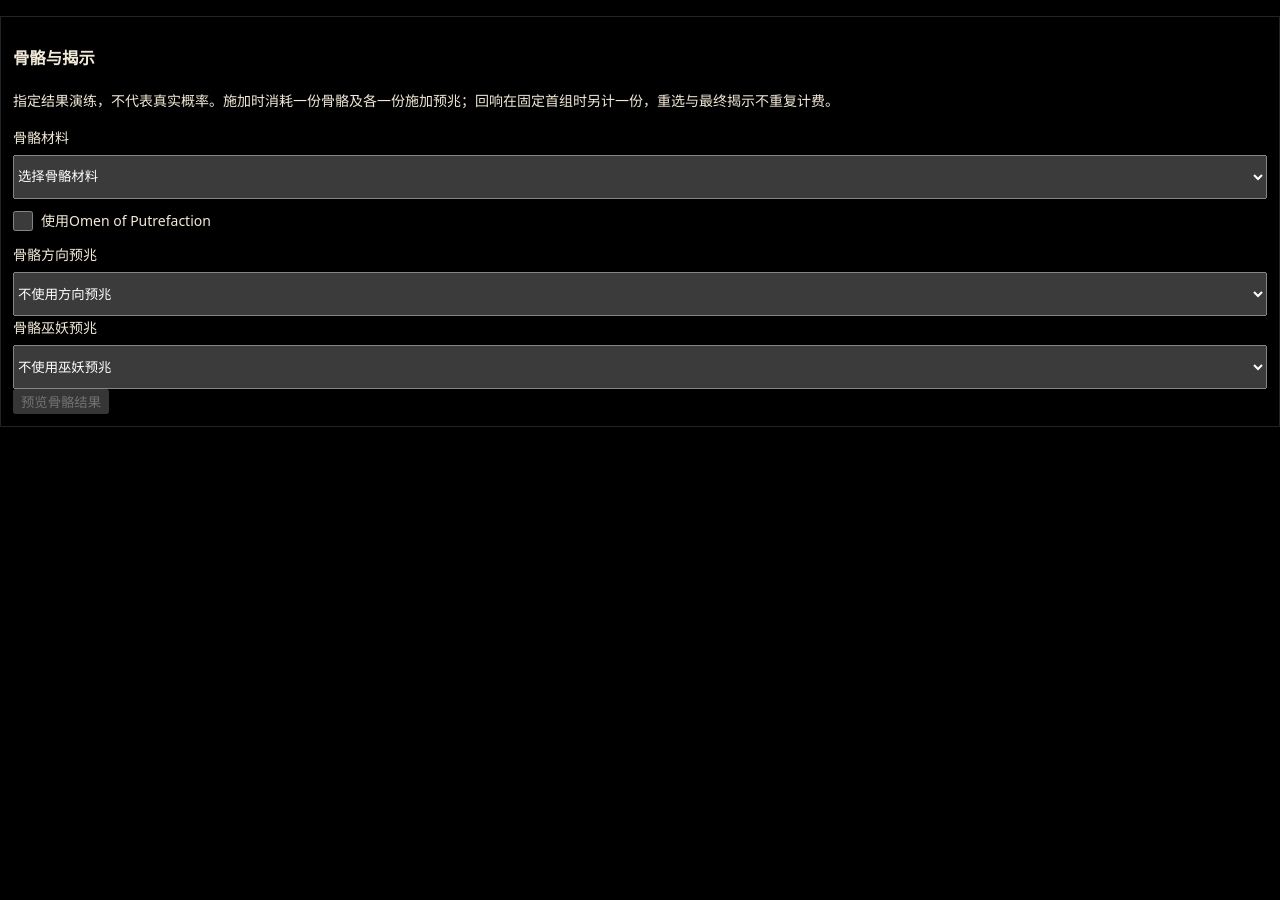
Test: 满六组的目标移除风险及占位侧联动在预览前可核对
Select "保存肋骨 · 防具与副手" in the dropdown labelled "骨骼材料" at [640, 177], box [13,155,1267,199]
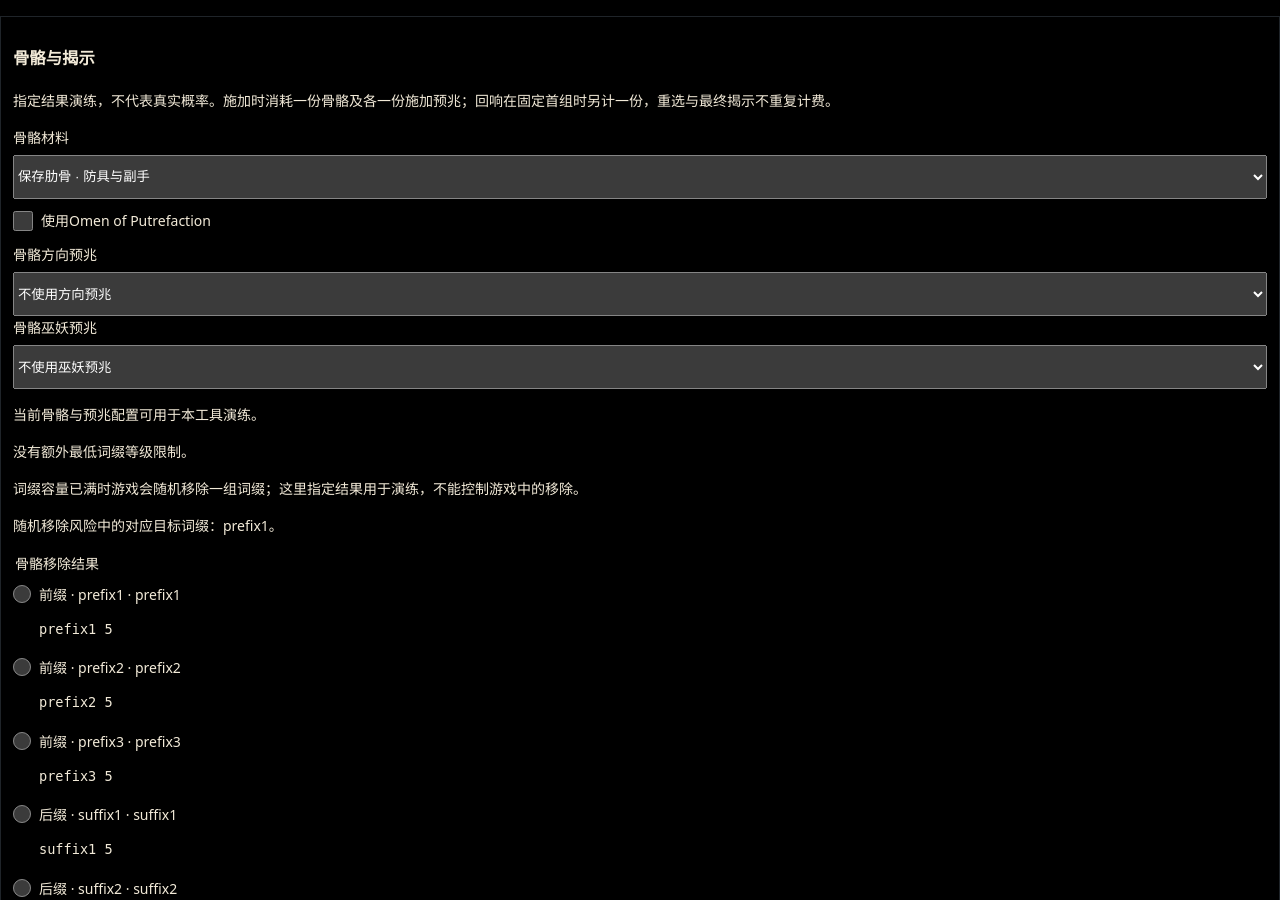
expect the text "随机移除风险中的对应目标词缀：prefix1。" is shown: met, box [13,516,283,535]
Click the radio button with aria-label "骨骼移除 prefix2" at [22, 667], box [13,658,31,676]
(page scrolled)
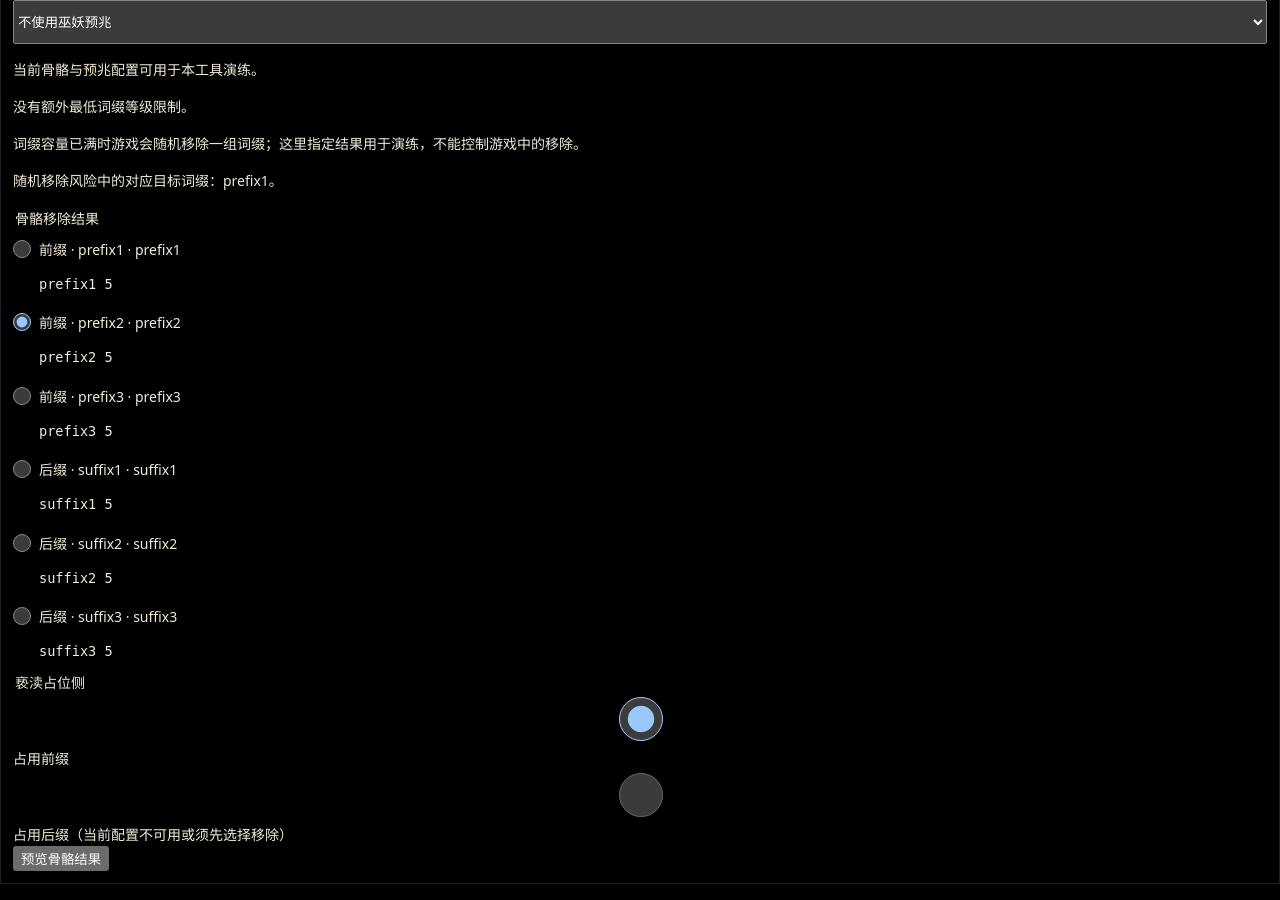
expect the radio button labelled "占用后缀" is disabled: met, box [18,773,1264,817]
expect the radio button labelled "占用前缀" is checked: met, box [18,697,1264,741]
Click the button "预览骨骼结果" at [61, 858], box [13,846,109,871]
(page scrolled)
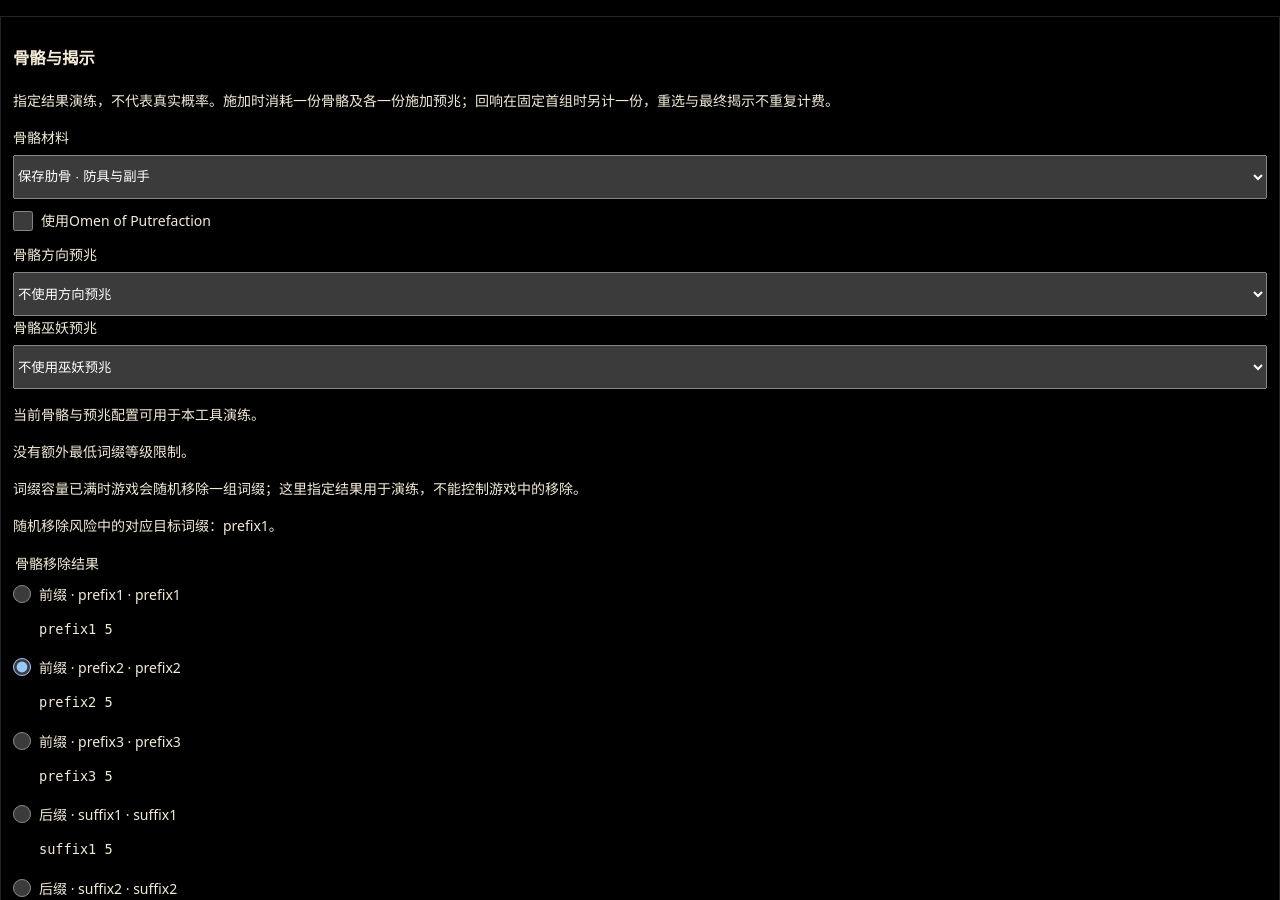
Select "Ancient Rib · 防具与副手 · 物等至少40，最低词缀等级40" in the dropdown labelled "骨骼材料" at [640, 177], box [13,155,1267,199]
(page scrolled)
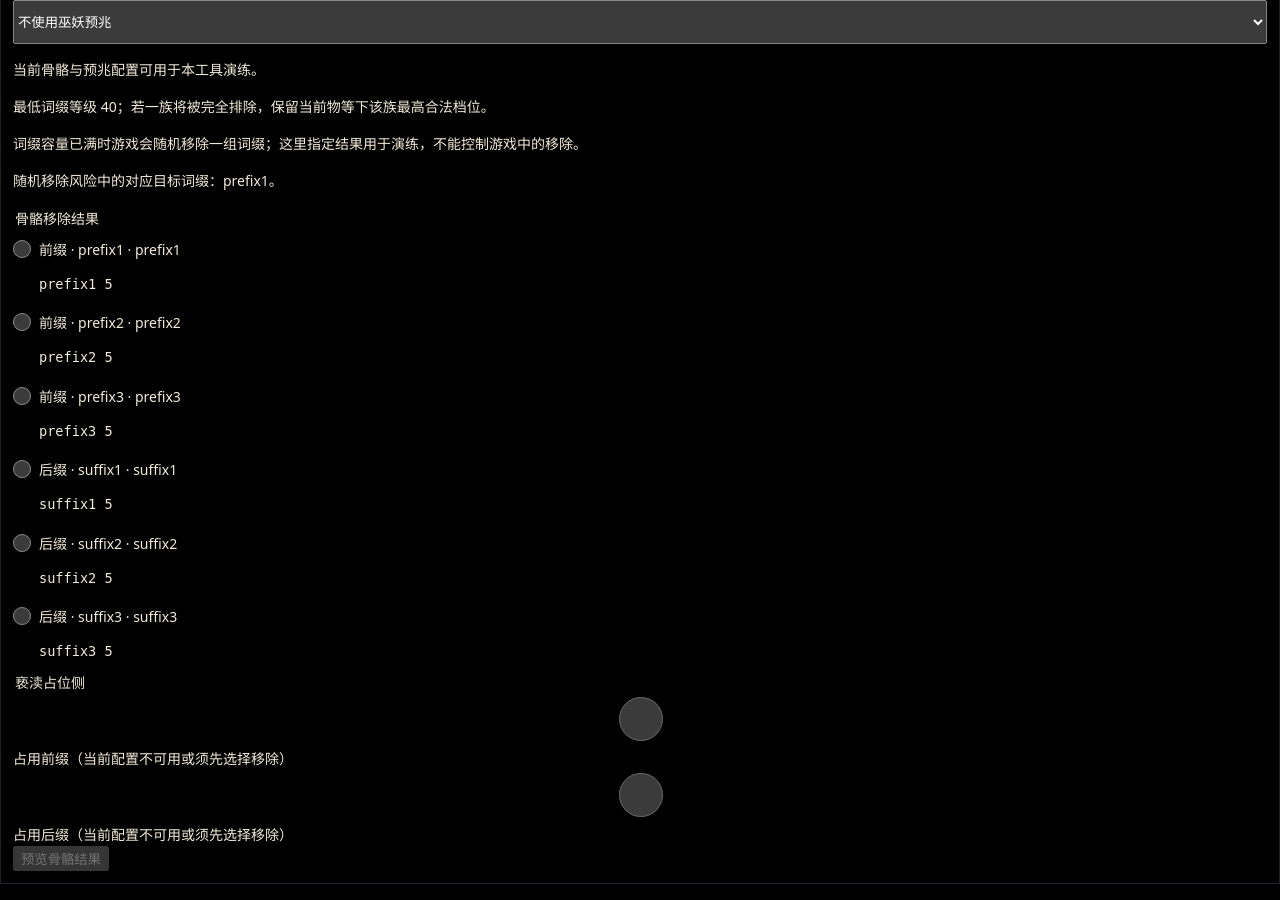
expect the button "预览骨骼结果" is disabled: met, box [13,846,109,871]
